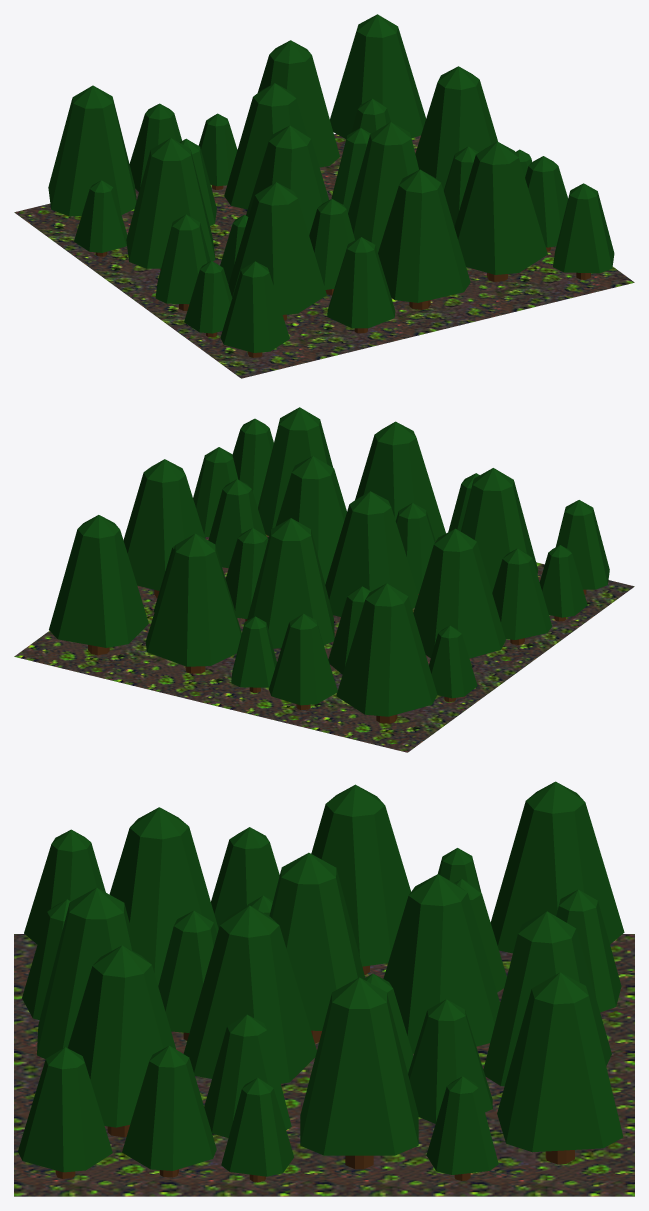
Rendered from Mesh_TreeTile.fbx.
3 views of the same model, one above another, from view 1: azimuth 30°, elevation 25°; view 2: azimuth 150°, elevation 25°; view 3: azimuth 270°, elevation 25° (orthographic). The views are drawn at different scales.
Visible parts, largest first — view 1: PlaneTree; view 2: PlaneTree; view 3: PlaneTree.
Part boxes in pixels (x1,y1,x2,y2): PlaneTree: [14, 14, 634, 378]; PlaneTree: [14, 407, 634, 752]; PlaneTree: [14, 781, 634, 1196].
Bounding box in the file's own units: 10000 × 3303 × 10000.
